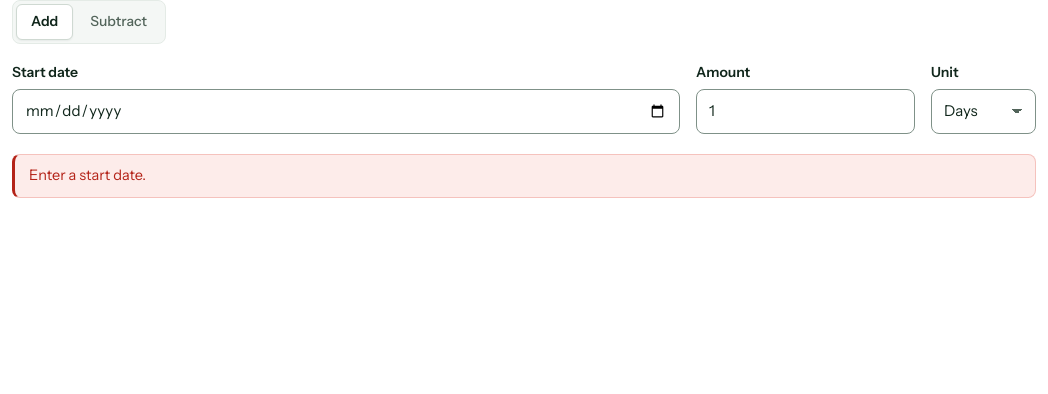
Test: DateCalculator › 2020-01-01 + 30 days = 2020-01-31
In the date field labelled "Start date": x=346, y=112 [12,89,680,134], type "2020-01-01"
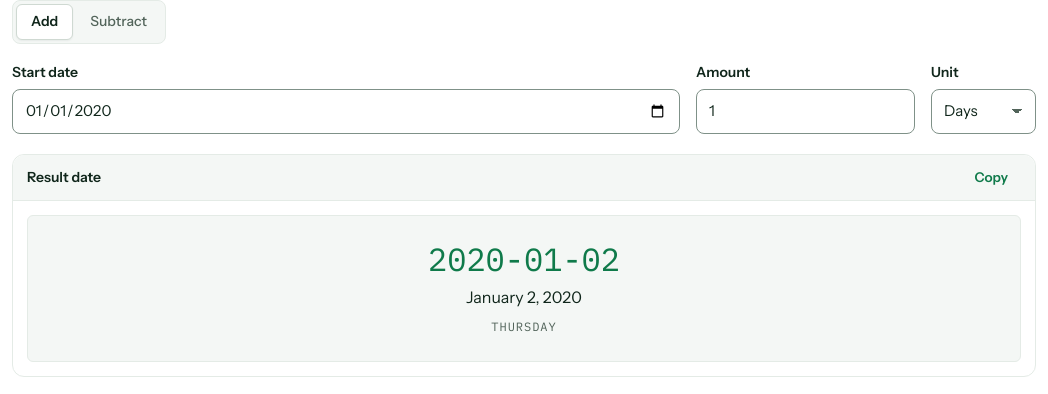
In the number field with placeholder "1": x=806, y=112 [696,89,915,134], type "30"
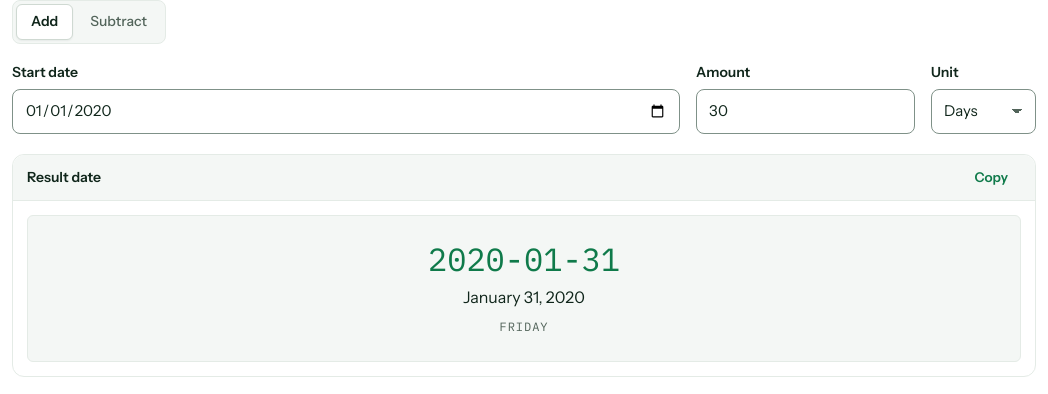
Result: the text "2020-01-31" is shown at [428,238,620,280]
Result: the text "Friday" is shown at [500,319,548,334]
